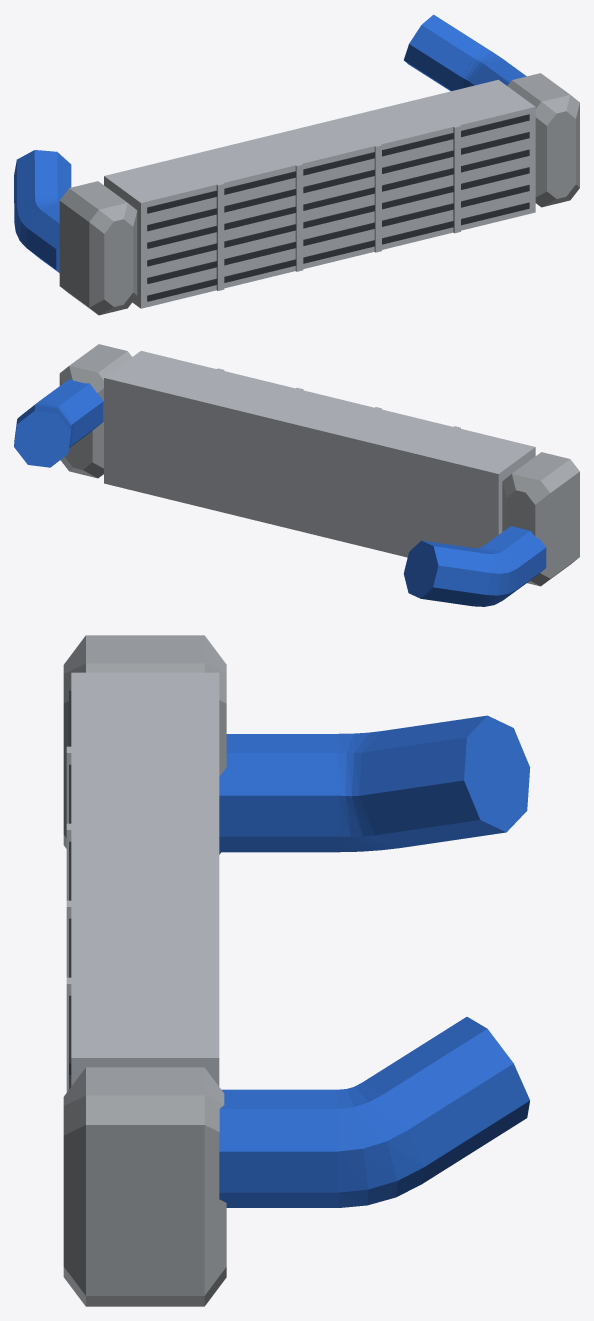
The model's file is intercooler_race.glb.
The picture shows the model from 3 angles, top to bottom: view 1: azimuth 30°, elevation 25°; view 2: azimuth 150°, elevation 25°; view 3: azimuth 270°, elevation 25°; orthographic projection. The views are drawn at different scales.
Visible parts, largest first — view 1: model; view 2: model; view 3: model.
Part boxes in pixels (left/top/right/bottom): model: left=14, top=14, right=579, bottom=315; model: left=14, top=344, right=579, bottom=606; model: left=63, top=635, right=530, bottom=1306.
Bounding box in the file's own units: 0.612 × 0.1446 × 0.2519.
2 materials, 1 textured.
